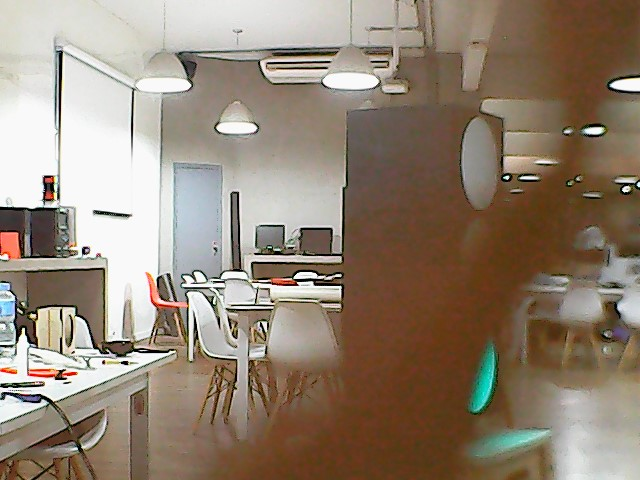verde: (317, 96, 521, 448)
